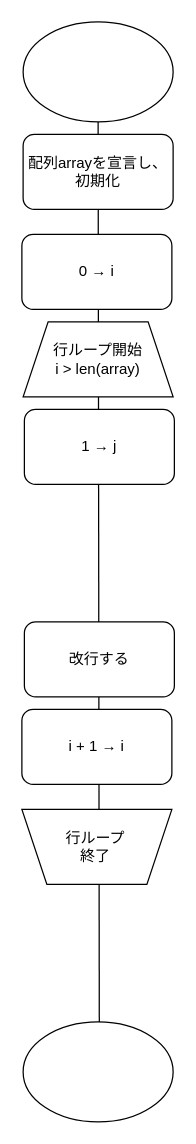
Image size: 196x1144. Some labels were removed from this diagram. The box of each missing label's shape, as (x1, y1, x2, y2) in pixels:
終了: (22, 1021, 173, 1122)
開始: (22, 21, 173, 122)
